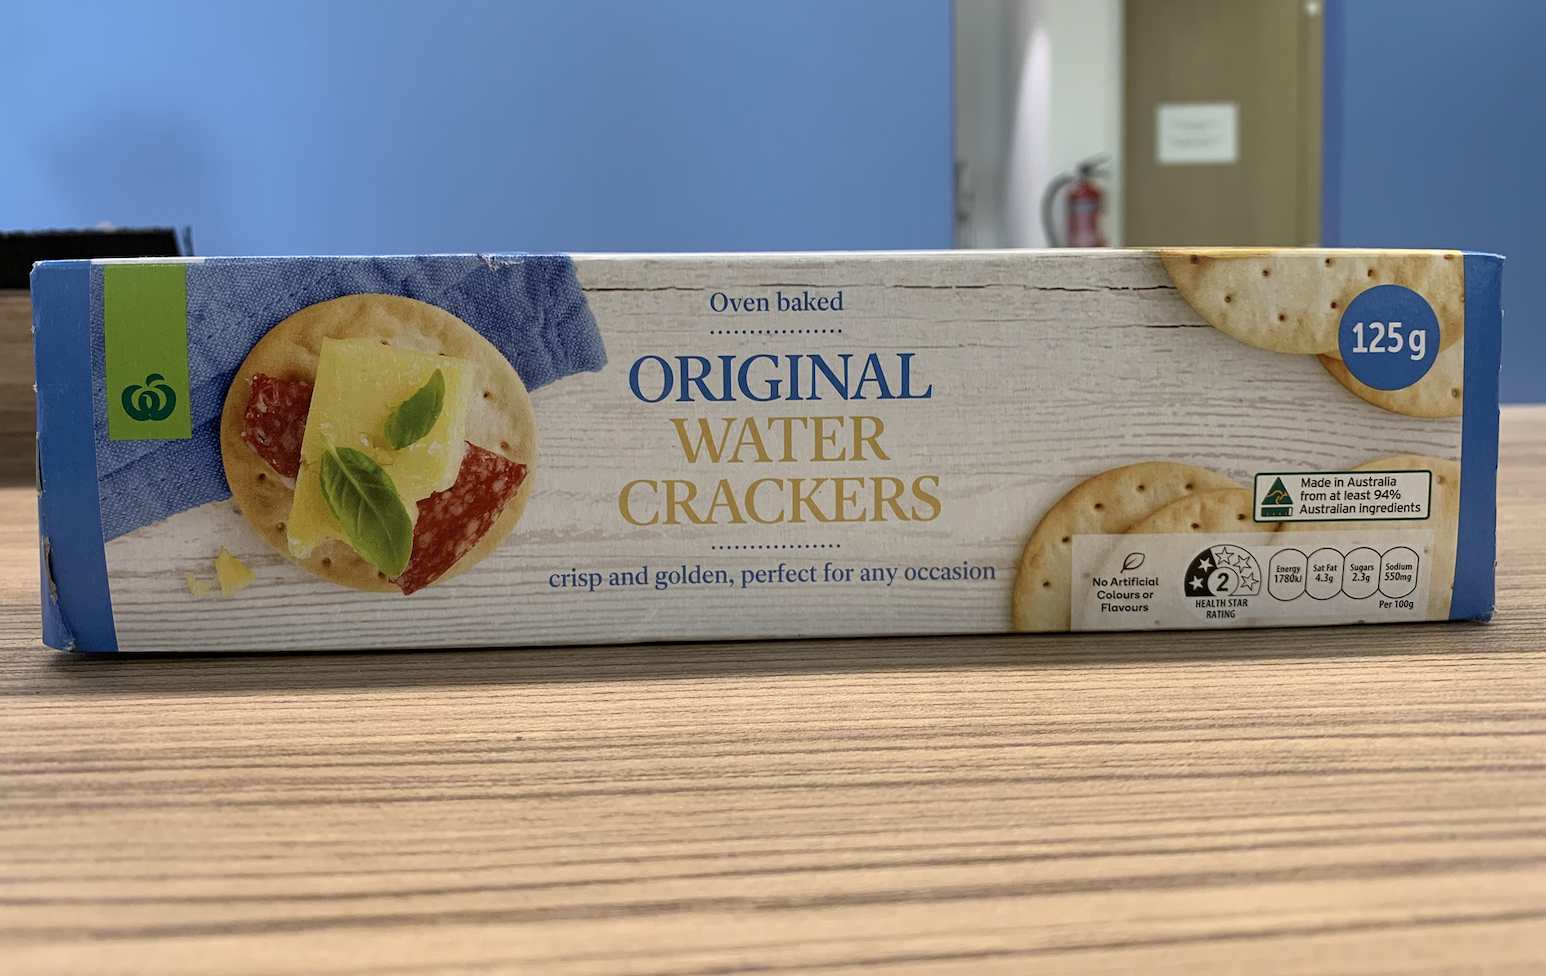crackers_150g: (76, 266, 1465, 631)
